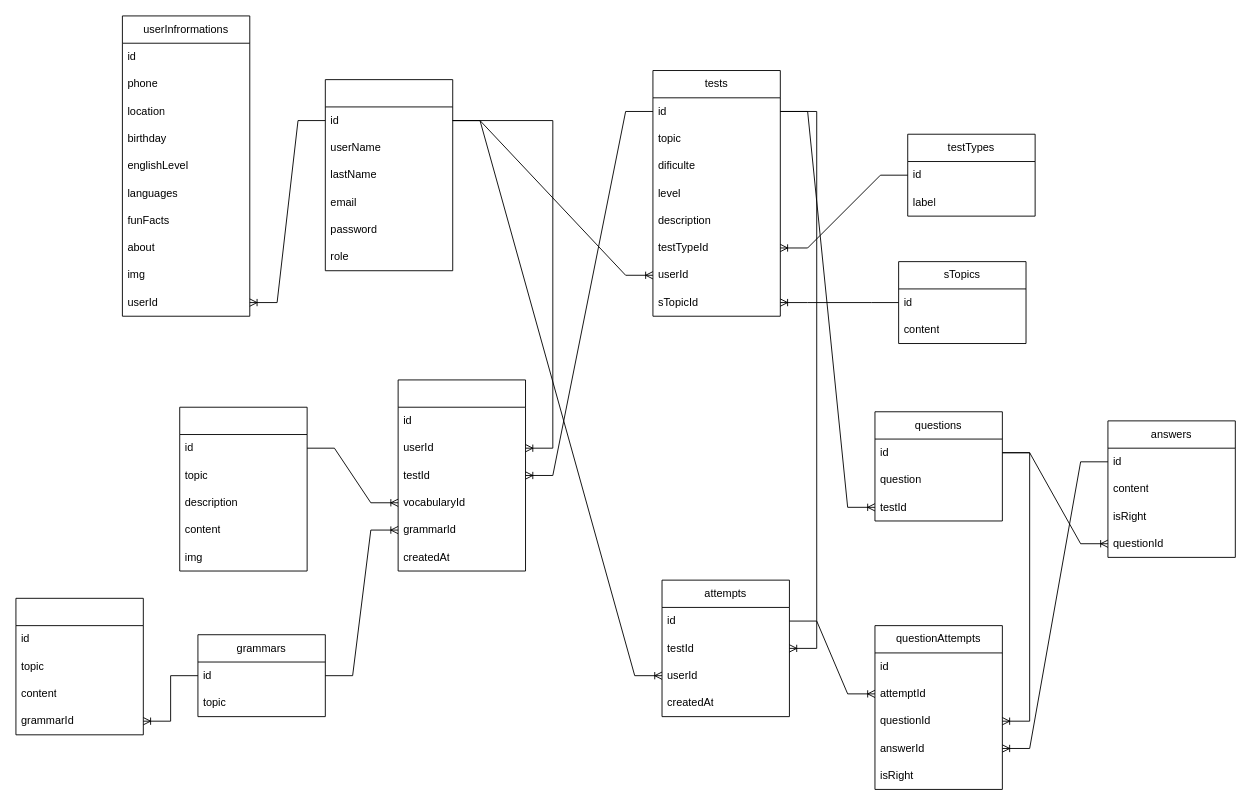
Image size: 1251x805. Some labels were removed from this diagram. The shapes that lost their labels are listed below. From the top down, each one's box as (x1, y1, x2, y2) in pixels, then its label:
(324, 79, 453, 271): Users
(179, 406, 307, 571): vocabularies
(397, 379, 526, 571): userProgresses
(15, 597, 143, 735): rules
